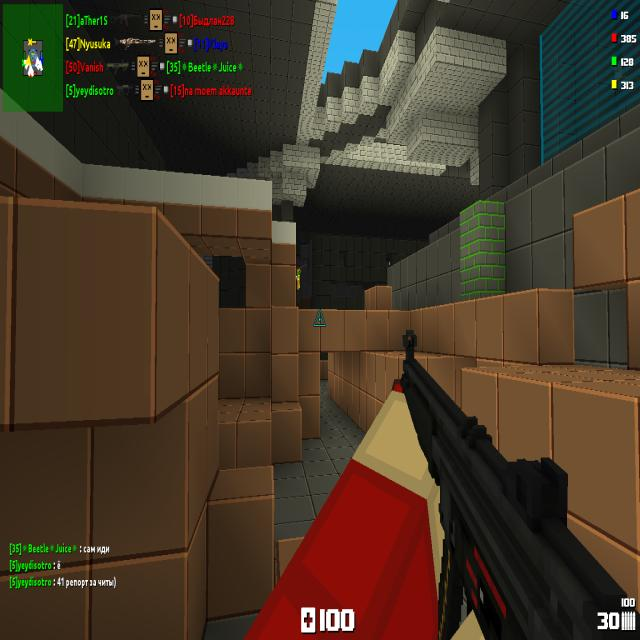enemy: (296, 267, 301, 290), (389, 260, 390, 266)
